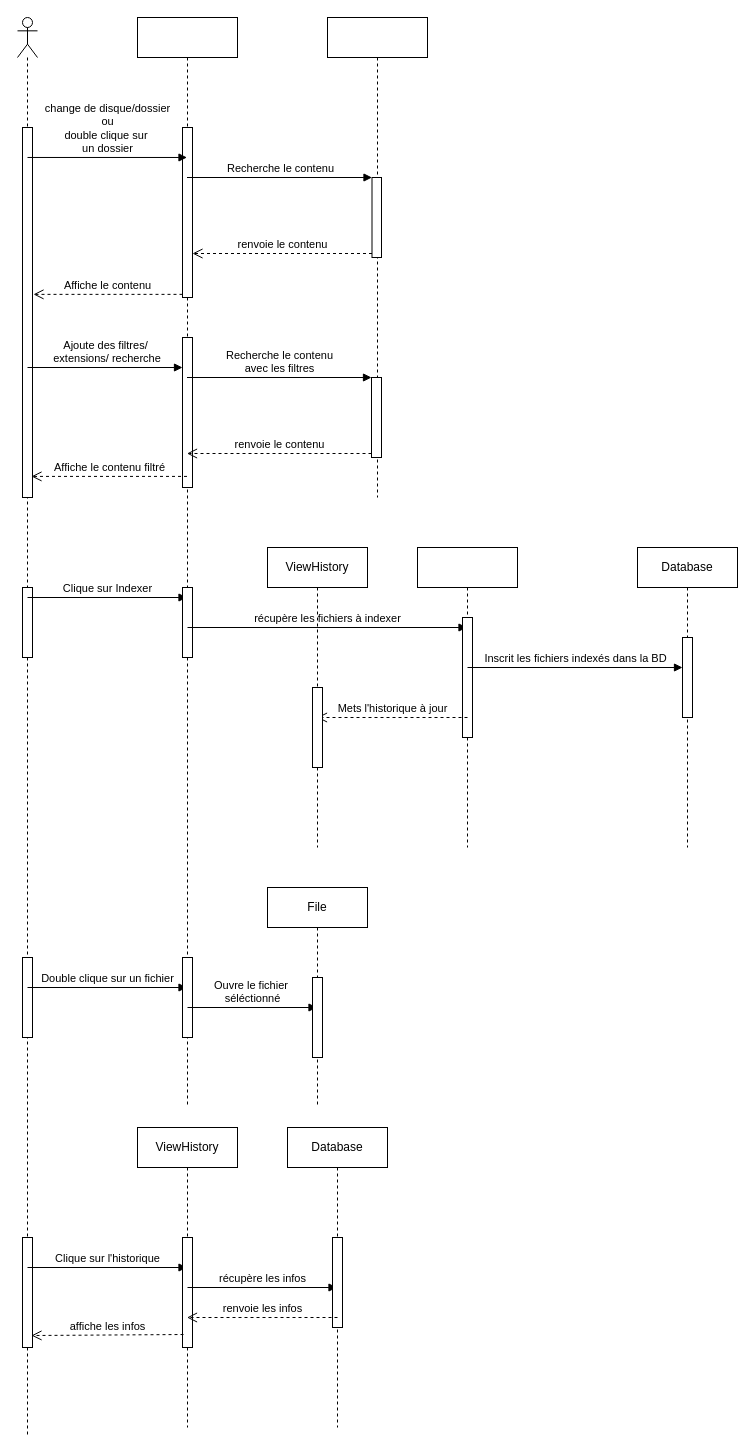
The diagram is 755 pixels wide and 1455 high, and some of its shapes have lost their labels. The centre of each missing label's shape, as x and y in pixels:
"Index" belongs at point (467, 697).
"ModelResearch" belongs at point (377, 257).
"ViewIndexing" belongs at point (187, 562).
